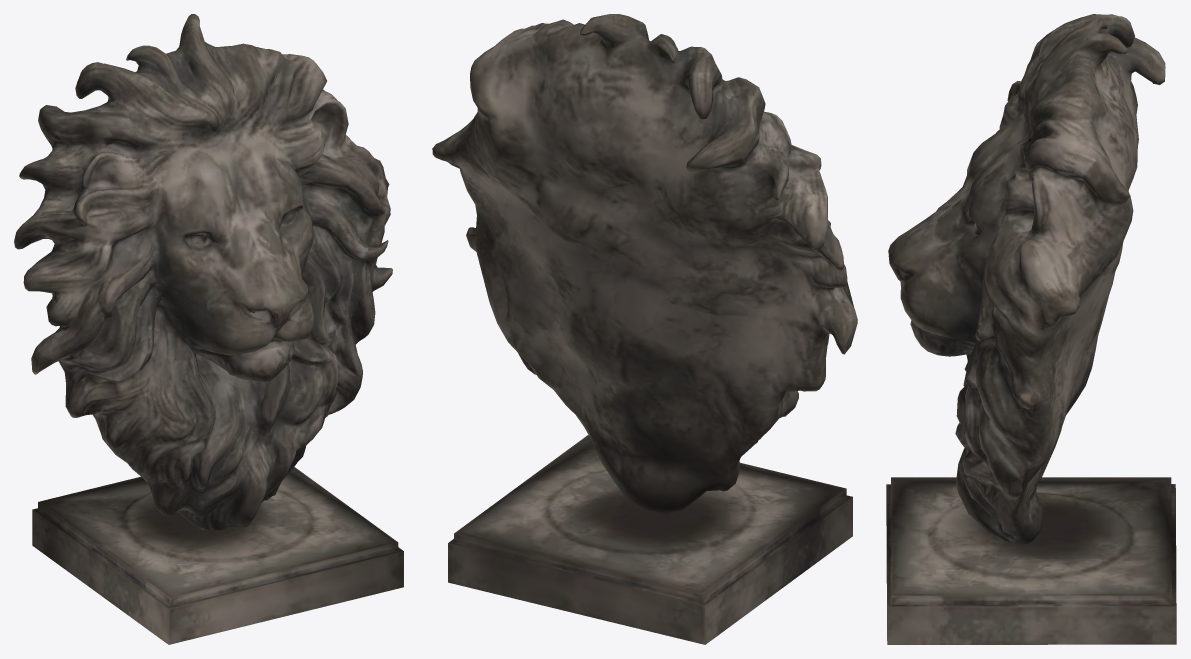
File: lion_head.667335cc.glb
3 views of the same model, side by side, from view 1: azimuth 30°, elevation 25°; view 2: azimuth 150°, elevation 25°; view 3: azimuth 270°, elevation 25° (orthographic). The views are drawn at different scales.
Parts seen in each view (by area): view 1: lion_head; view 2: lion_head; view 3: lion_head.
Part boxes in pixels (x1,y1,x2,y2): lion_head: [14, 14, 403, 644]; lion_head: [432, 14, 857, 644]; lion_head: [886, 14, 1176, 644].
Bounding box in the file's own units: 0.736 × 1 × 0.474.
Materials: 1 (1 with a texture image).
